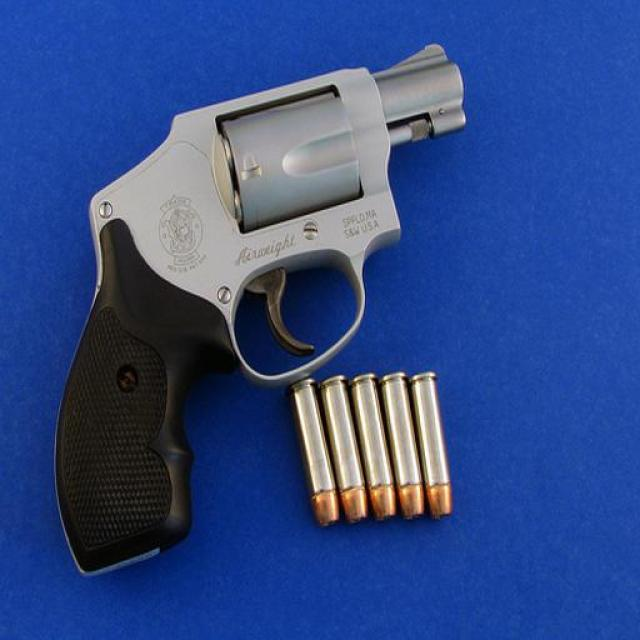pistol: (55, 40, 462, 575)
